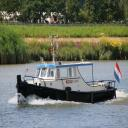tugboat: (16, 59, 119, 109)
